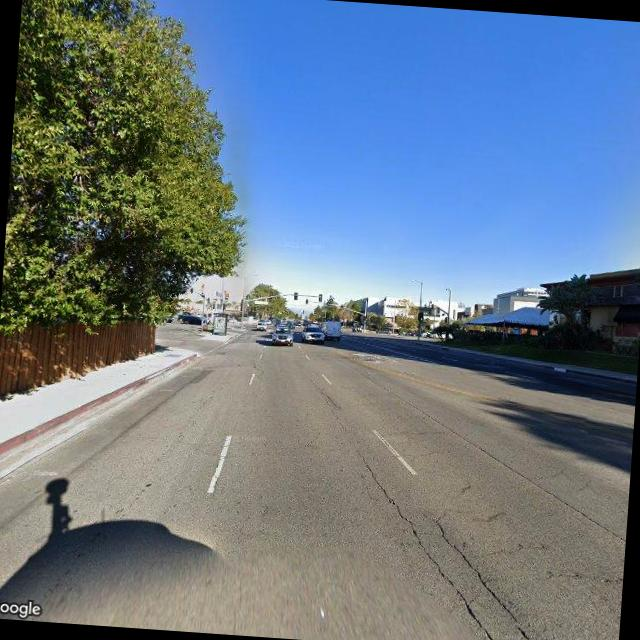crack: (319, 420, 514, 640), (416, 499, 553, 640)
